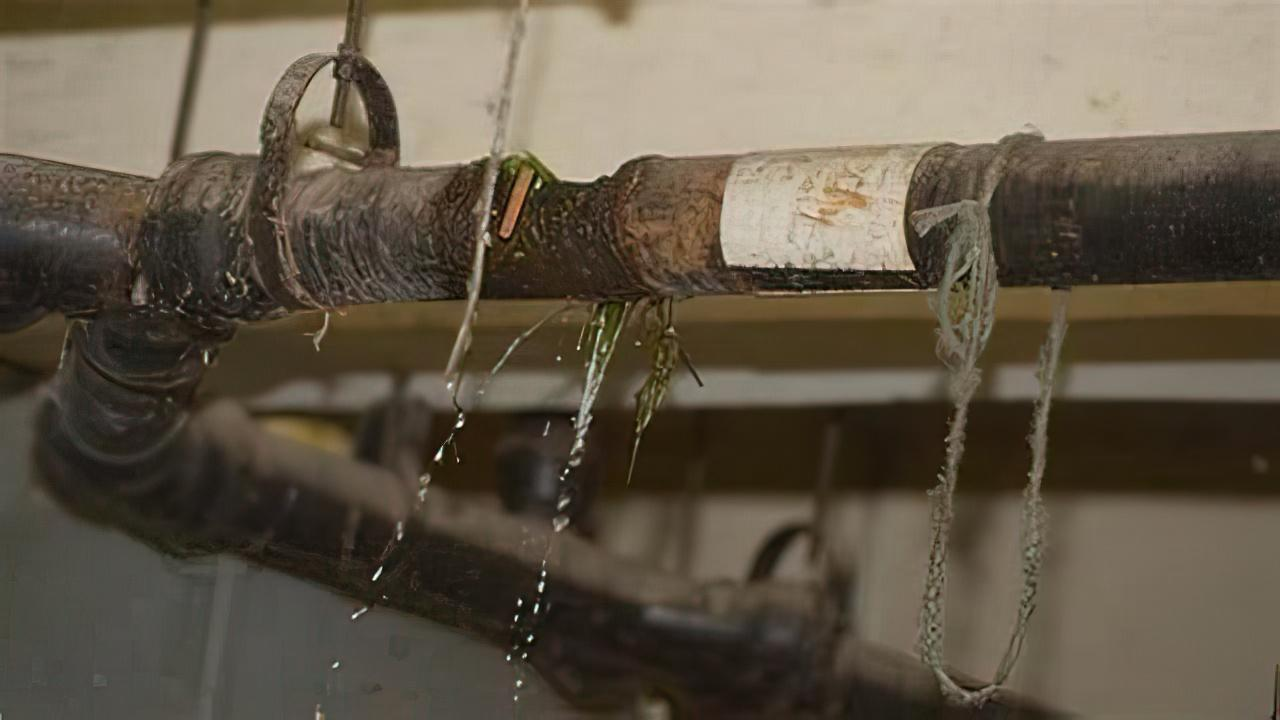water drop: (566, 438, 588, 468), (552, 492, 576, 511), (551, 514, 570, 534)
